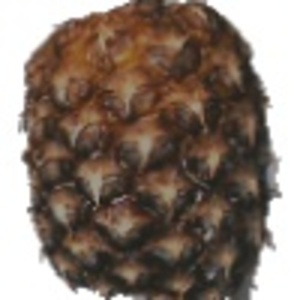abacaxi: (15, 4, 285, 294)
